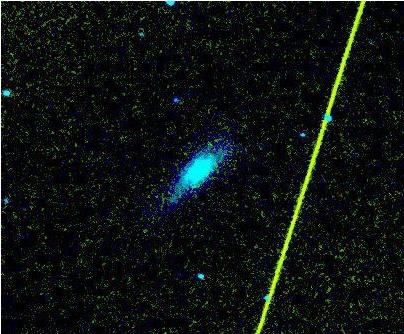star: (284, 201, 314, 231)
